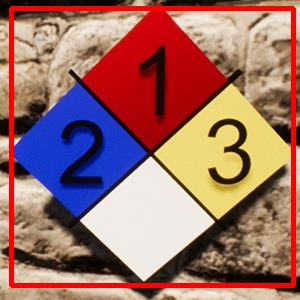nfpa: (11, 8, 293, 285)
